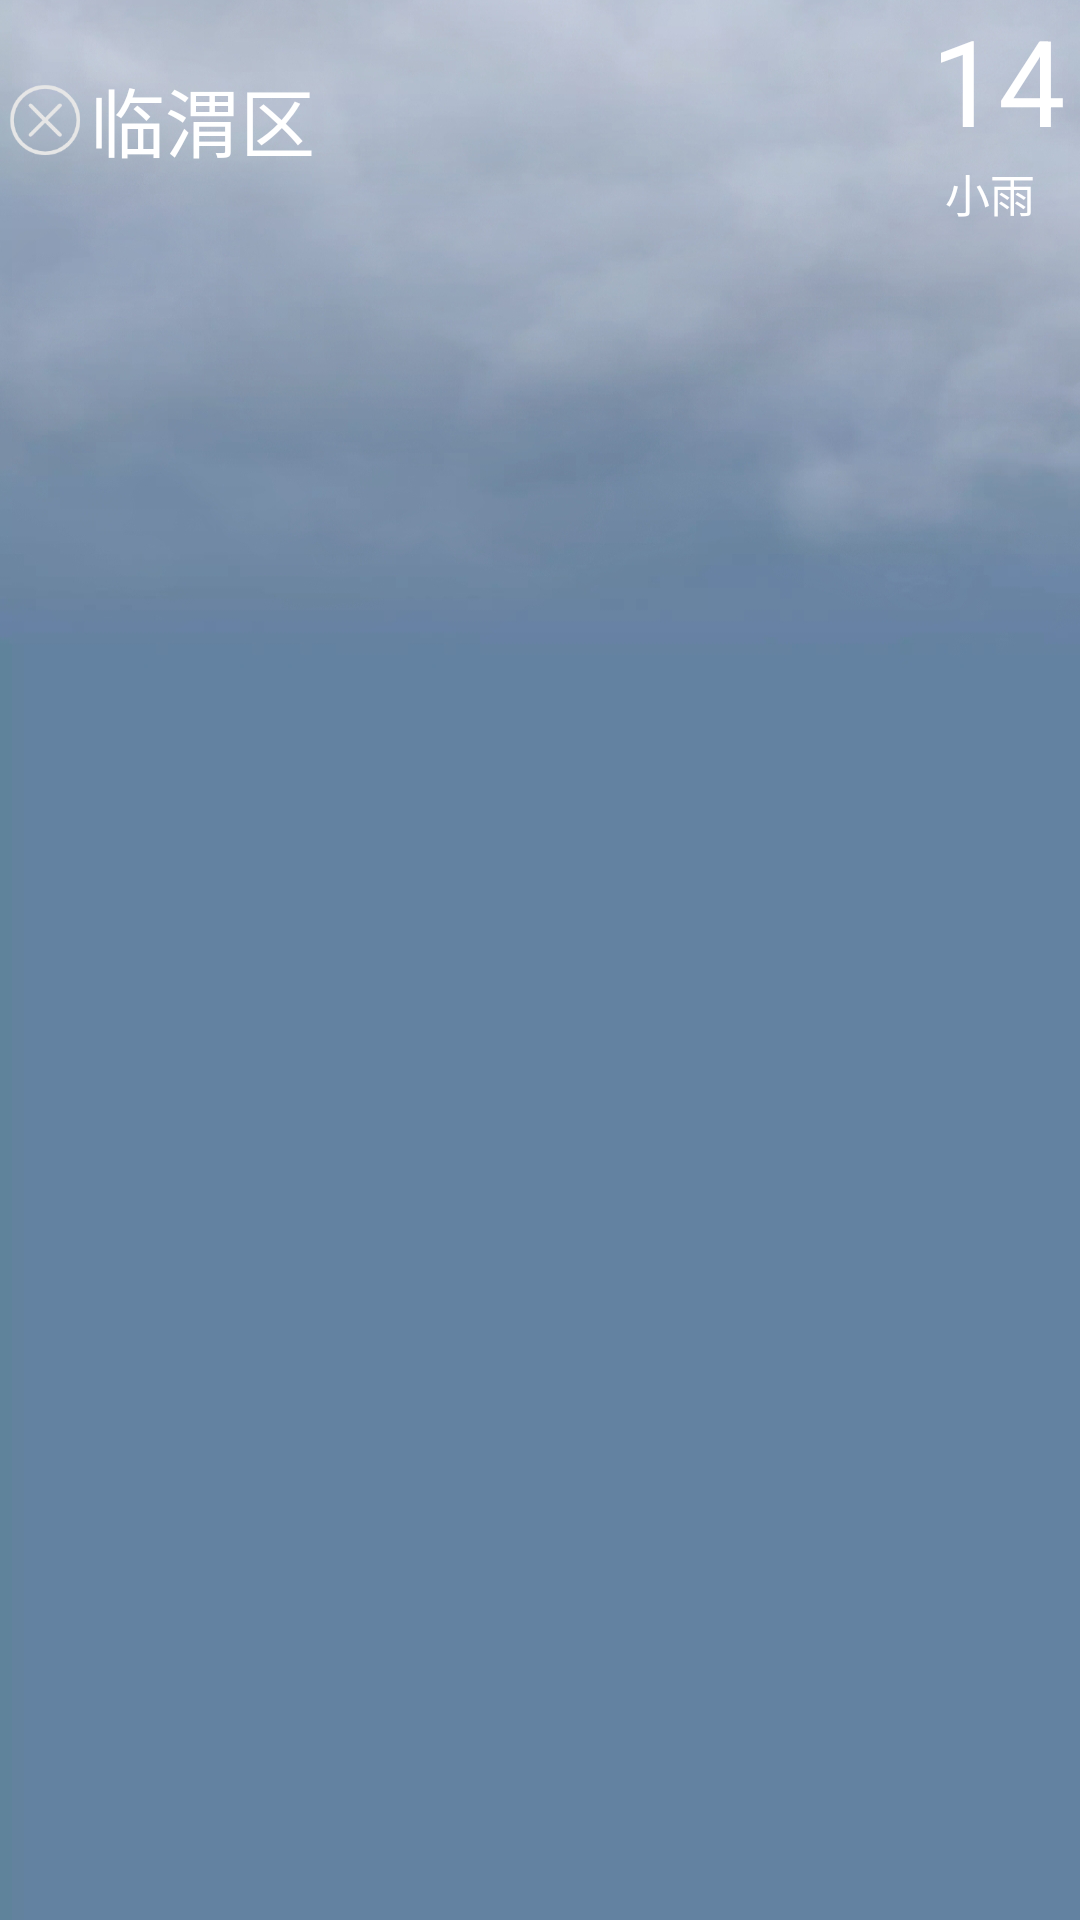

Icons on this 1080px x 1920px Android screen, each with the point to tap as [x,y]:
delete: [45,118]
